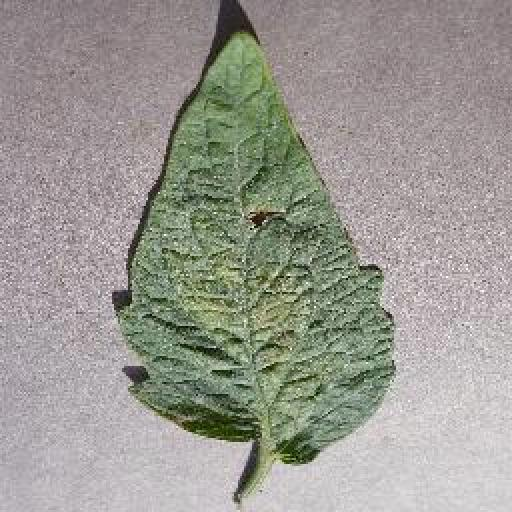disease_tomato: (116, 28, 394, 466)
